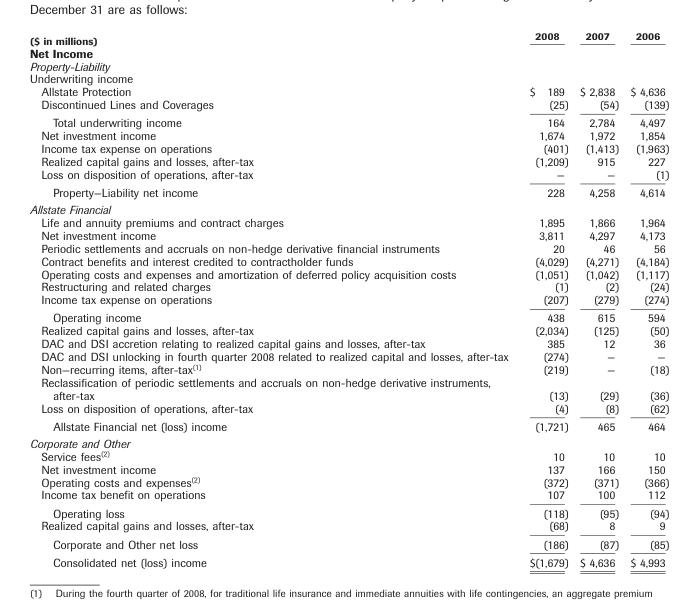table: (28, 28, 668, 568)
table column: (28, 28, 518, 568), (518, 28, 573, 568), (573, 28, 623, 568), (623, 28, 668, 568)
table column header: (28, 28, 668, 45)
table projected row header: (28, 200, 668, 215), (28, 434, 668, 449), (28, 45, 668, 59), (28, 59, 668, 72), (28, 72, 668, 84)
table row: (28, 375, 668, 401), (28, 534, 668, 552), (28, 28, 668, 45), (28, 183, 668, 200), (28, 417, 668, 434), (28, 97, 668, 113), (28, 167, 668, 183), (28, 292, 668, 308), (28, 401, 668, 417), (28, 503, 668, 519), (28, 552, 668, 568), (28, 113, 668, 128), (28, 200, 668, 215), (28, 308, 668, 323), (28, 434, 668, 449), (28, 488, 668, 503), (28, 519, 668, 534), (28, 45, 668, 59), (28, 59, 668, 72), (28, 84, 668, 97), (28, 128, 668, 141), (28, 141, 668, 154), (28, 154, 668, 167), (28, 215, 668, 228), (28, 228, 668, 241), (28, 241, 668, 254), (28, 254, 668, 267), (28, 267, 668, 280), (28, 323, 668, 336), (28, 336, 668, 349), (28, 349, 668, 362), (28, 362, 668, 375), (28, 449, 668, 462), (28, 462, 668, 475), (28, 475, 668, 488), (28, 72, 668, 84), (28, 280, 668, 292)
